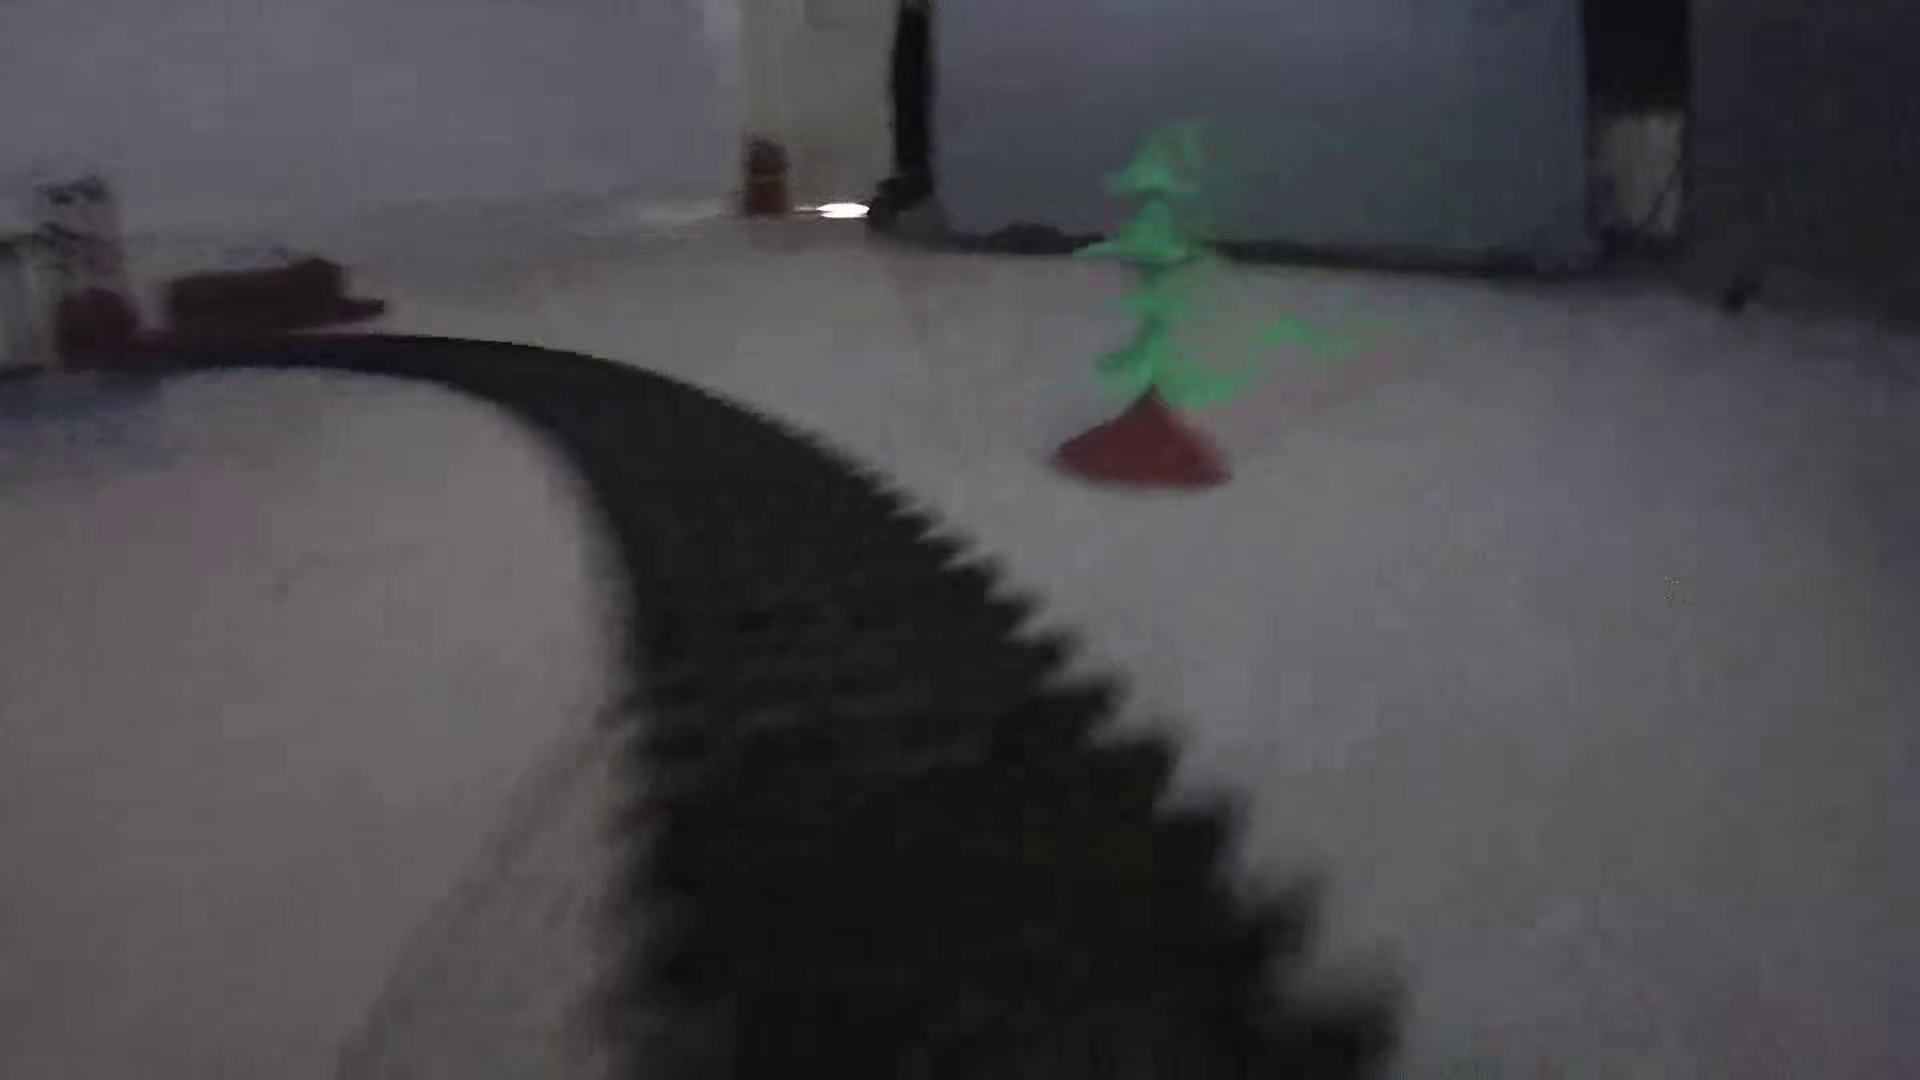tree: (1044, 115, 1243, 497)
